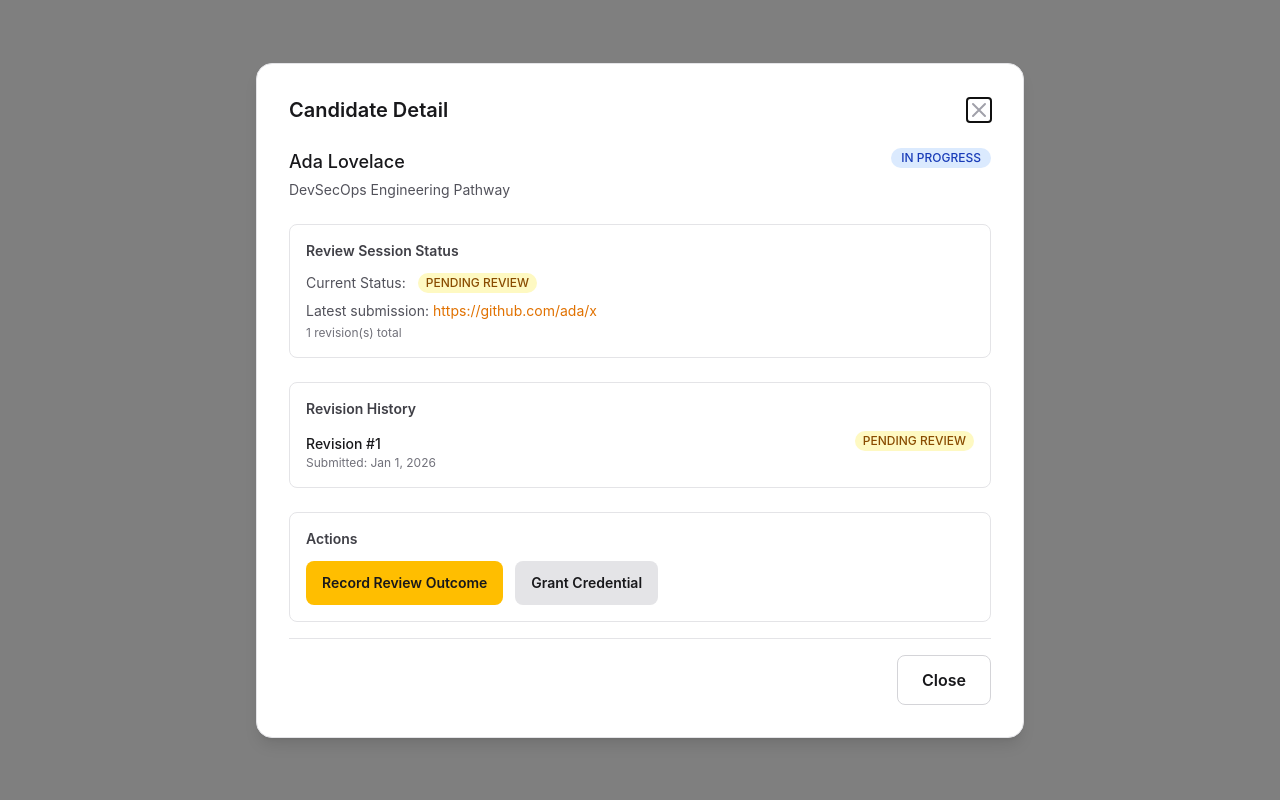
Test: grants a credential
Check: the heading "Ada Lovelace" is shown, box [289, 150, 405, 172]
Step 1. Click the button "Grant Credential" → (587, 582), box [515, 560, 658, 604]
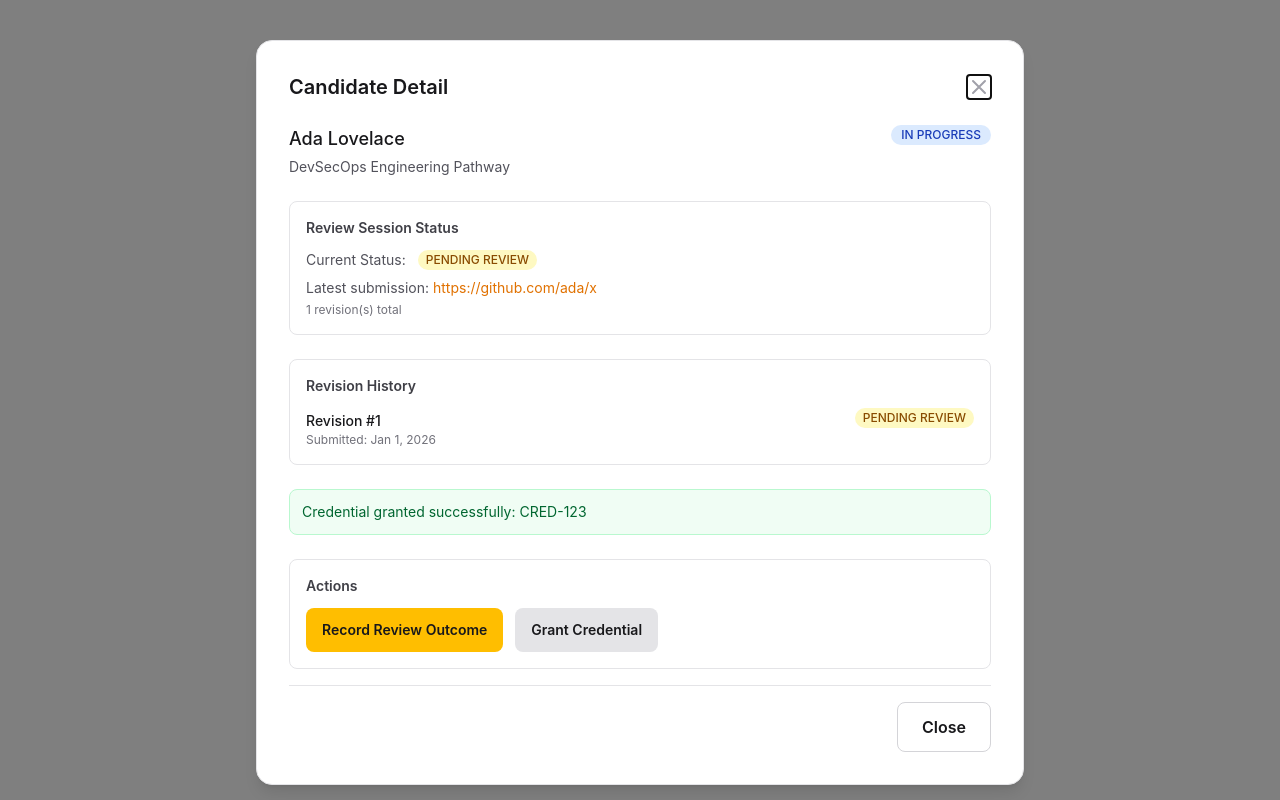
Check: the text "Credential granted successfully: CRED-123" is shown, box [302, 503, 586, 520]
